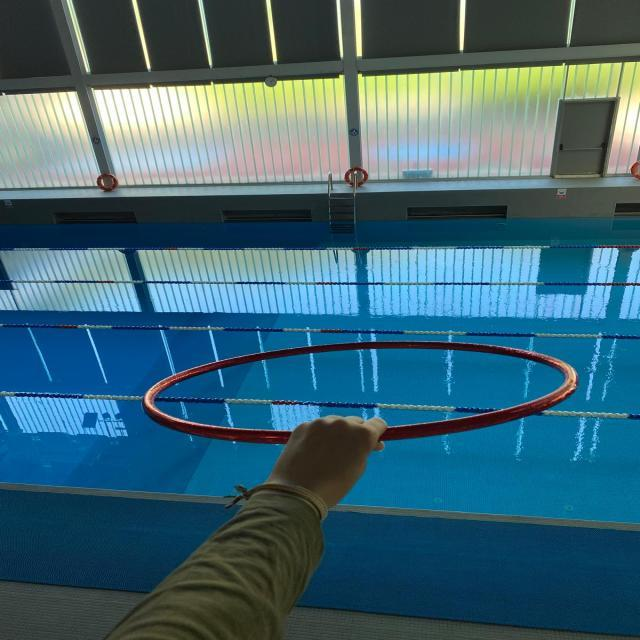Circle: (137, 335, 578, 447)
